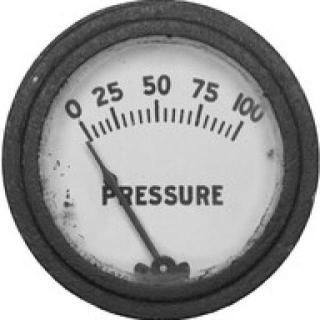gauge: (0, 0, 320, 320), (67, 107, 97, 135), (152, 253, 178, 278), (227, 114, 253, 139), (82, 136, 96, 154)
